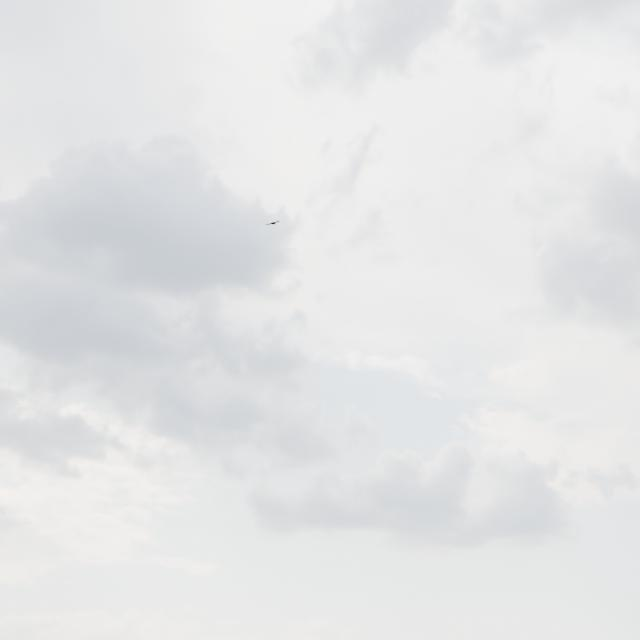Airaplan: (266, 220, 280, 225)
